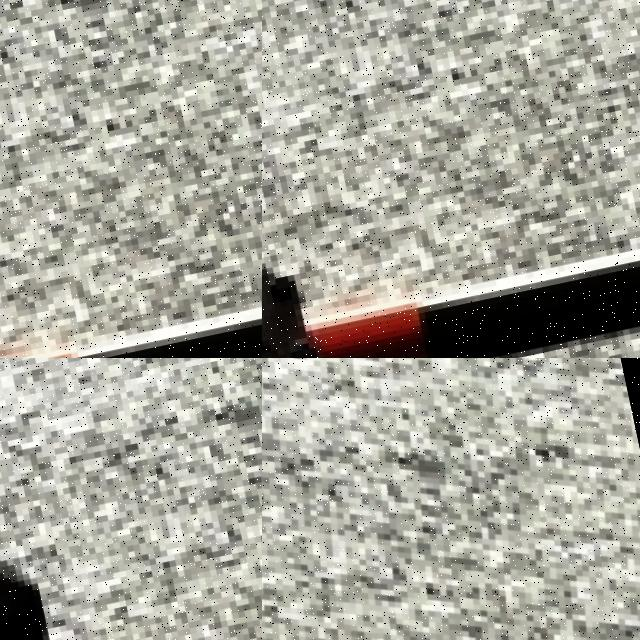drone: (262, 358, 640, 640)
